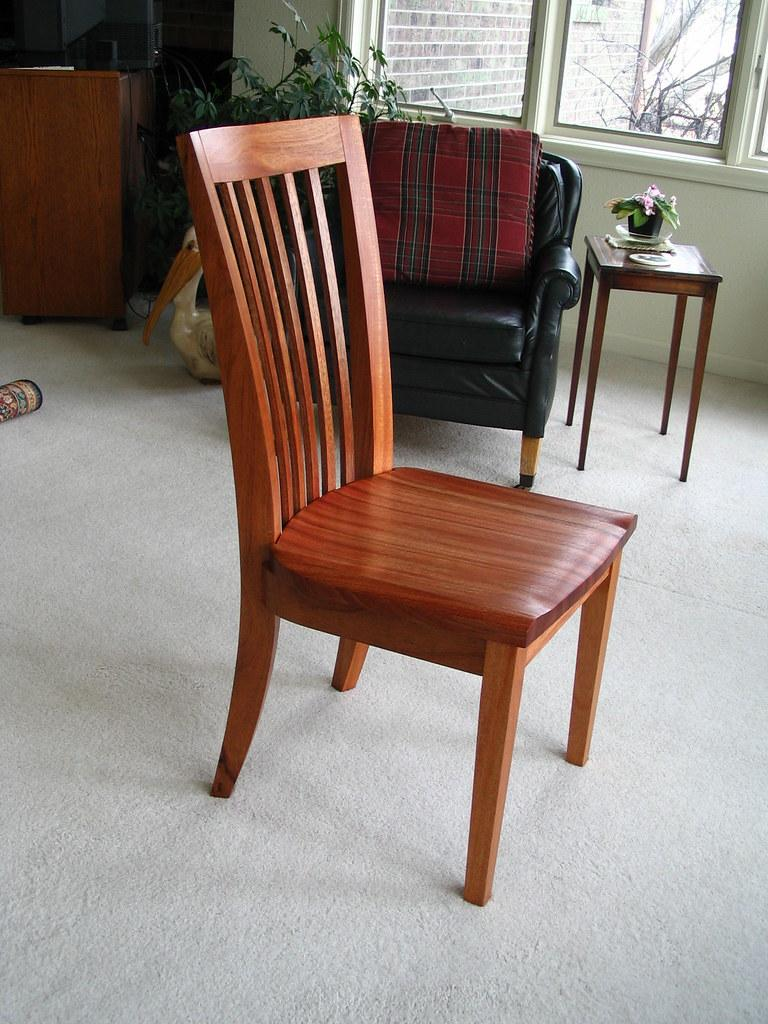chair: (176, 114, 639, 907), (289, 120, 584, 491)
